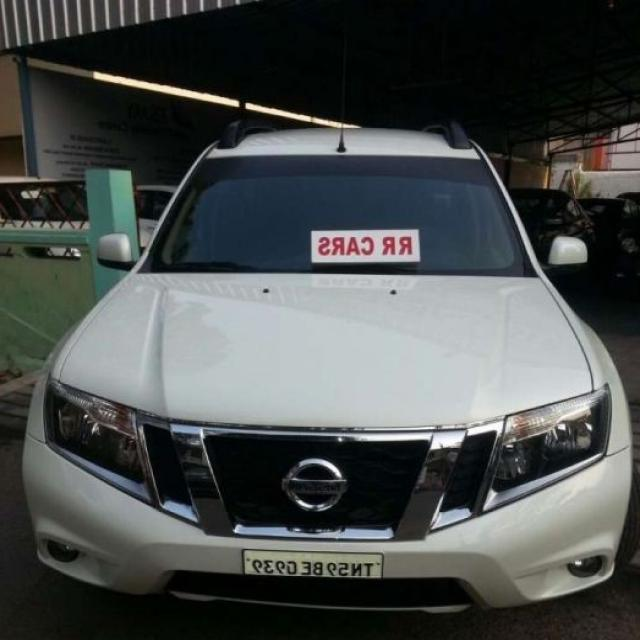number-plate: (246, 542, 401, 595)
